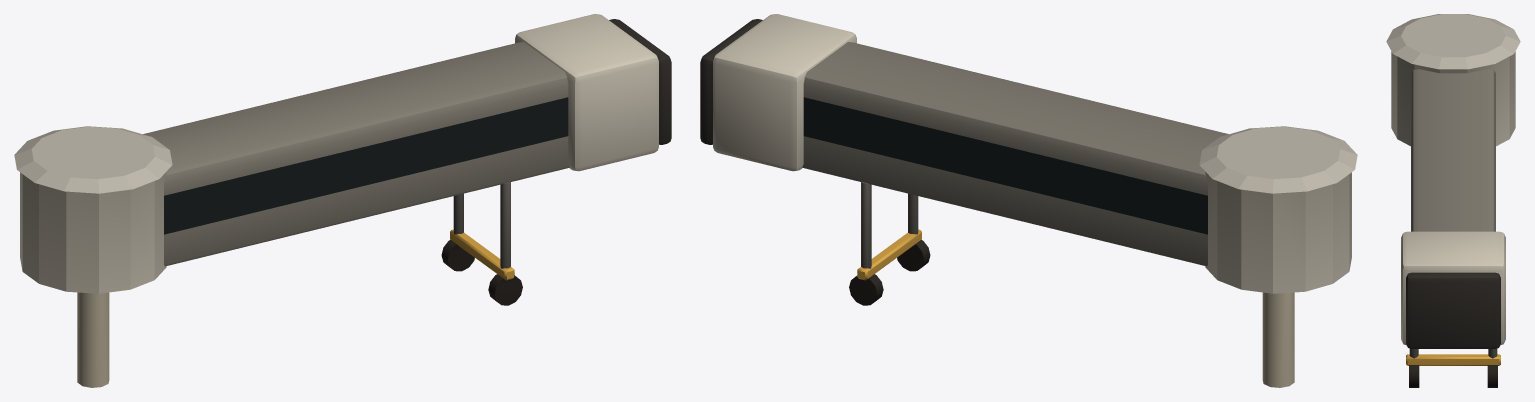
Rendered from jet_bridge.glb.
The picture shows the model from 3 angles, left to right: view 1: azimuth 30°, elevation 25°; view 2: azimuth 150°, elevation 25°; view 3: azimuth 270°, elevation 25°; orthographic projection. The views are drawn at different scales.
Parts seen in each view (by area): view 1: jet_bridge_mesh; view 2: jet_bridge_mesh; view 3: jet_bridge_mesh.
Part boxes in pixels (x1=…): jet_bridge_mesh: x1=14, y1=14, x2=671, y2=387; jet_bridge_mesh: x1=700, y1=14, x2=1357, y2=387; jet_bridge_mesh: x1=1386, y1=14, x2=1520, y2=387.
Size of the model in its own units: 18.35 by 6.45 by 4.1.
